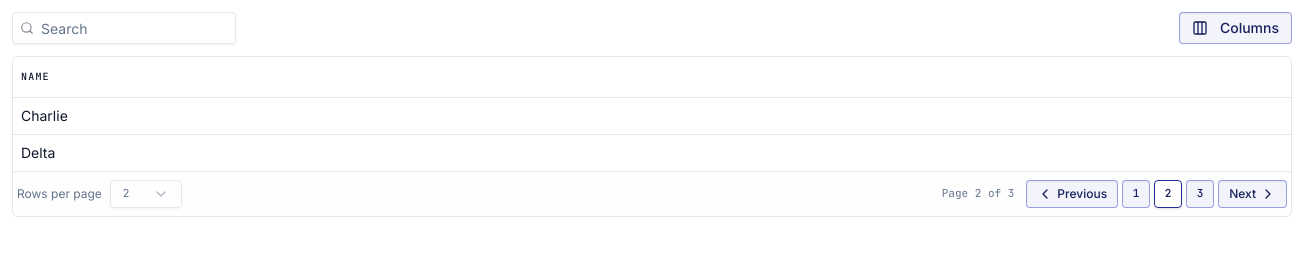
Test: DataTable url-state — page survives re-run mount effects › a real filter change still goes back to page 1
The image size is (1304, 274).
Type "a" into the field with placeholder "Search". click: (124, 28)
box: [12,12,236,44]
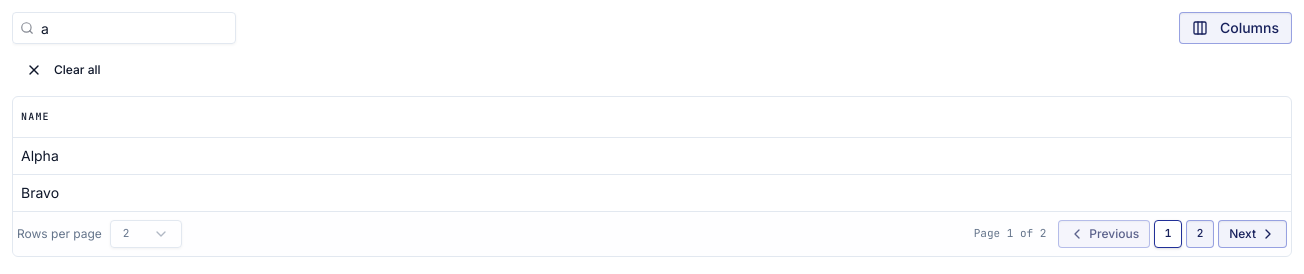
expect the cell "Alpha" is shown: met, box [13,137,1291,174]
